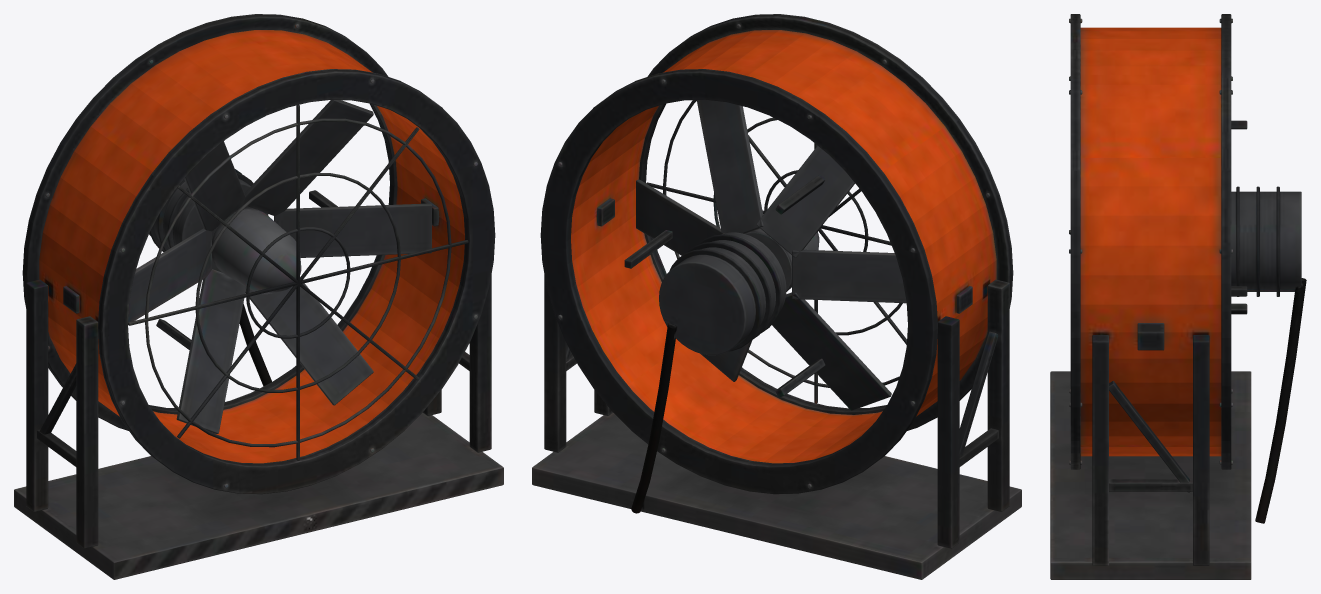
The model's file is air_fan.glb.
3 views of the same model, side by side, from view 1: azimuth 30°, elevation 25°; view 2: azimuth 150°, elevation 25°; view 3: azimuth 270°, elevation 25° (orthographic).
Parts seen in each view (by area): view 1: air_fan; view 2: air_fan; view 3: air_fan.
Boxes of the visible parts, left/top/right/bottom form: air_fan: left=14, top=14, right=503, bottom=579; air_fan: left=532, top=14, right=1021, bottom=579; air_fan: left=1050, top=14, right=1306, bottom=579.
Bounding box in the file's own units: 2.82 × 2.96 × 1.53.
Materials: 1 (1 with a texture image).
